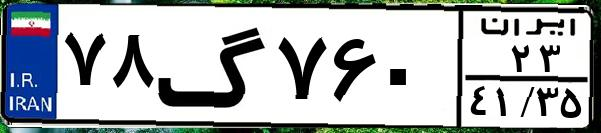0: (385, 28, 445, 110)
1: (495, 70, 520, 125)
2: (508, 27, 537, 80)
3: (537, 27, 568, 80), (535, 70, 560, 125)
4: (470, 70, 495, 125)
5: (560, 70, 590, 125)
6: (330, 28, 385, 110)
7: (270, 28, 330, 110), (57, 26, 110, 100)
8: (110, 28, 156, 98)
گ: (156, 12, 270, 120)
